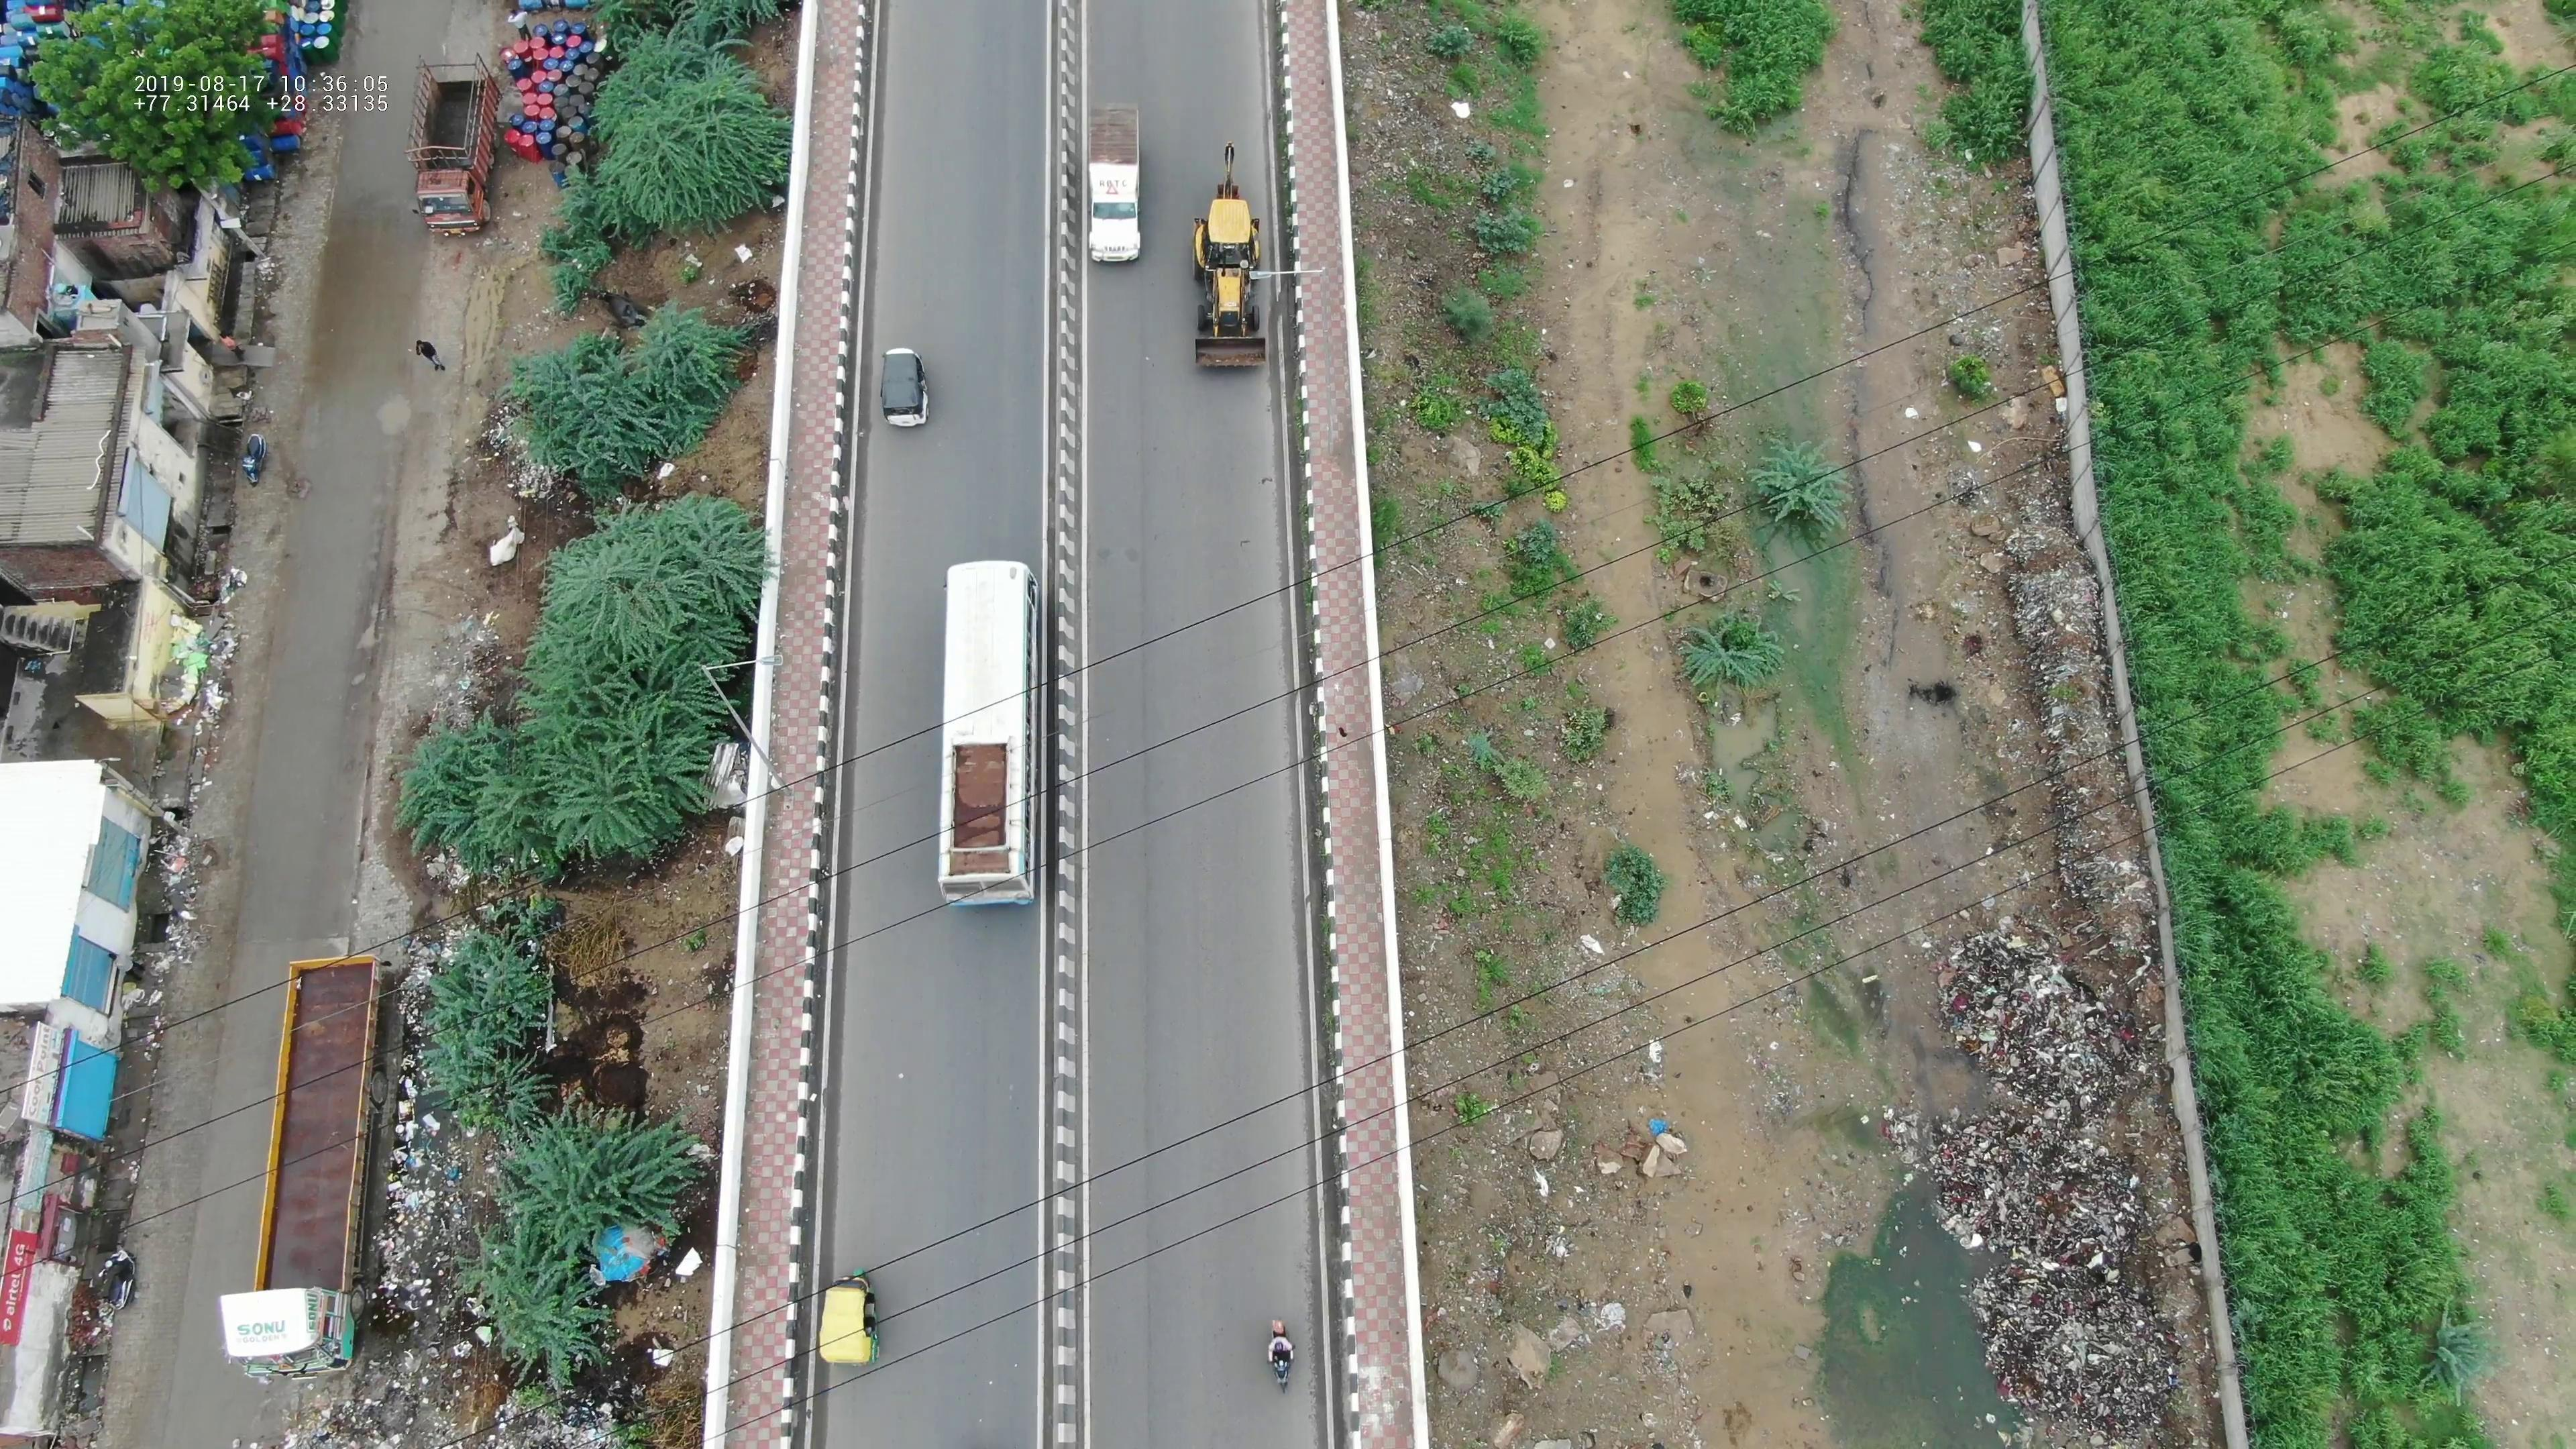Road_side_garbage: (1913, 901, 2171, 1447), (2005, 504, 2128, 879)
